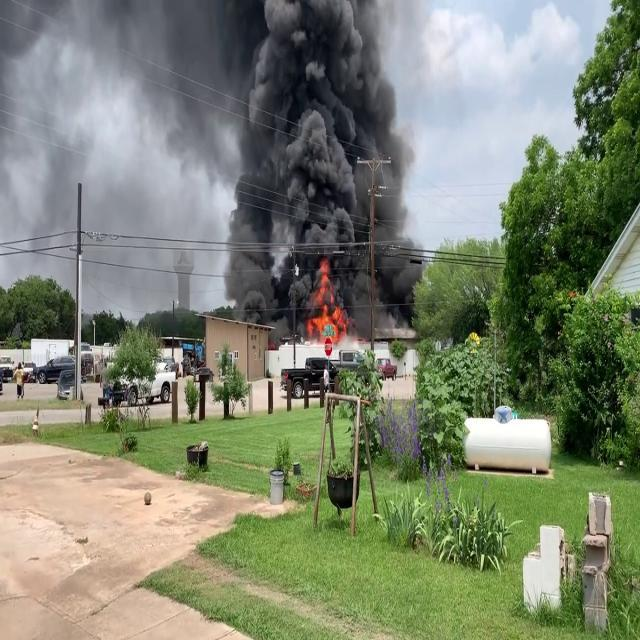Fire: (306, 264, 350, 342)
Smoke: (0, 0, 244, 286), (214, 0, 426, 324)
